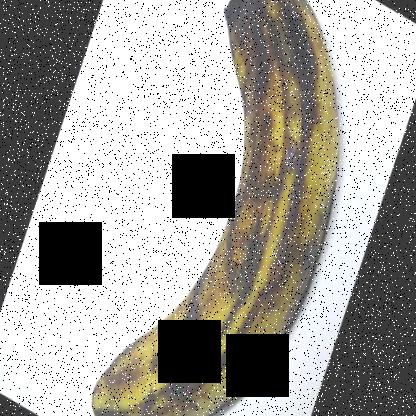overripe: (71, 1, 353, 415)
rotten: (220, 1, 332, 80)
